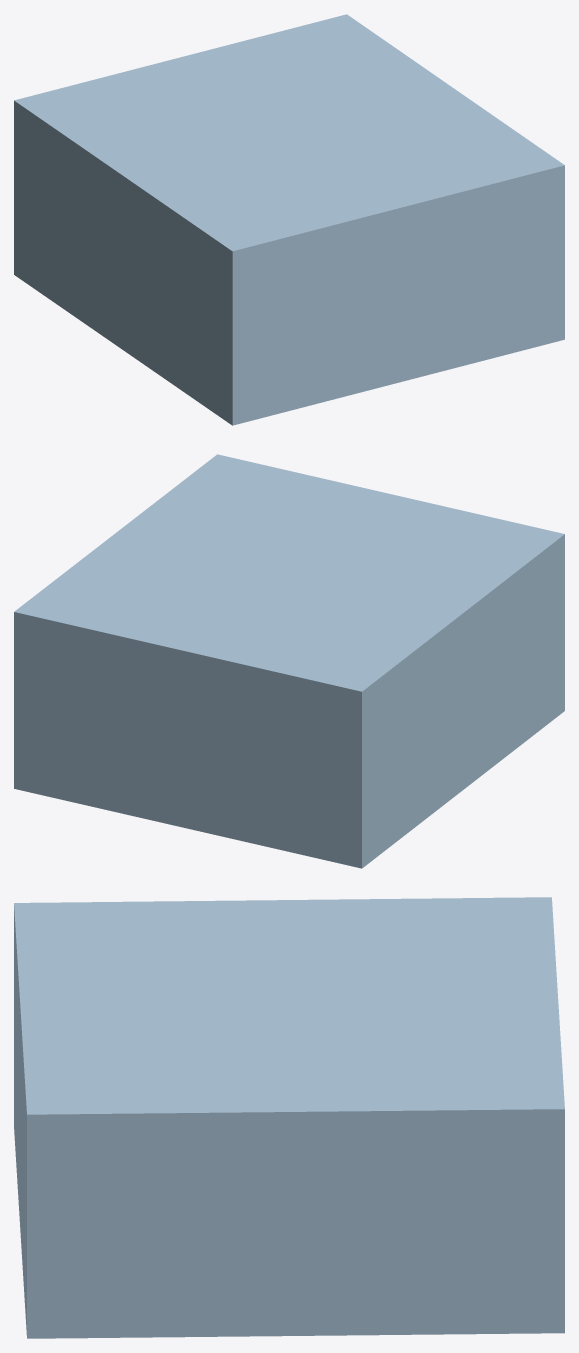
File: osm_way_224953835.glb
3 views of the same model, one above another, from view 1: azimuth 30°, elevation 25°; view 2: azimuth 150°, elevation 25°; view 3: azimuth 270°, elevation 25° (orthographic). The views are drawn at different scales.
Parts seen in each view (by area): view 1: osm_way_224953835; view 2: osm_way_224953835; view 3: osm_way_224953835.
Part boxes in pixels (left/top/right/bottom): osm_way_224953835: left=14, top=14, right=564, bottom=425; osm_way_224953835: left=14, top=454, right=564, bottom=868; osm_way_224953835: left=14, top=897, right=564, bottom=1338.
Bounding box in the file's own units: 8.33 × 4 × 8.91.
